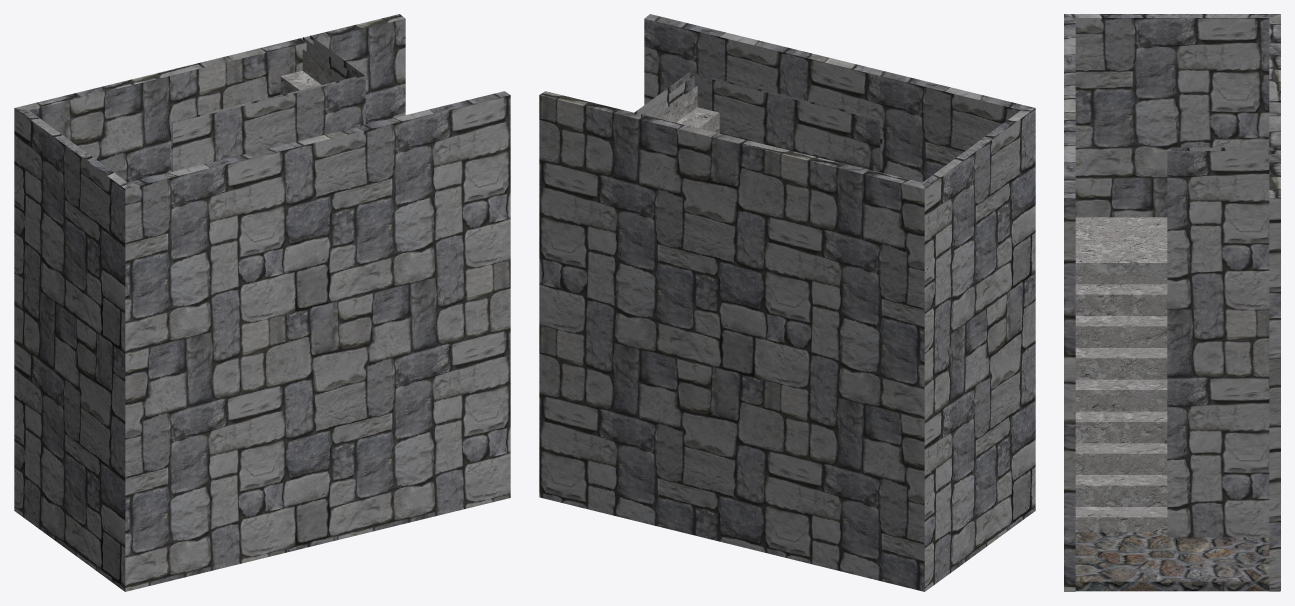
File: roomStairsBottom.dae
The picture shows the model from 3 angles, left to right: view 1: azimuth 30°, elevation 25°; view 2: azimuth 150°, elevation 25°; view 3: azimuth 270°, elevation 25°; orthographic projection. The views are drawn at different scales.
Parts seen in each view (by area): view 1: WallsBottom, DividerBottom, StairsBottom; view 2: WallsBottom, DividerBottom, StairsBottom; view 3: WallsBottom, DividerBottom, StairsBottom, FloorBottom.
Part boxes in pixels (box(x1,y1,x2,y2)): WallsBottom: box(14, 14, 510, 591); DividerBottom: box(171, 35, 365, 171); StairsBottom: box(280, 49, 343, 94); WallsBottom: box(539, 14, 1035, 591); DividerBottom: box(634, 72, 882, 172); StairsBottom: box(654, 85, 719, 133); WallsBottom: box(1064, 14, 1280, 591); DividerBottom: box(1167, 147, 1276, 537); StairsBottom: box(1075, 217, 1167, 532); FloorBottom: box(1075, 532, 1269, 591).
Bounding box in the file's own units: 30 × 14.94 × 30.18.
3 materials, 3 textured.
